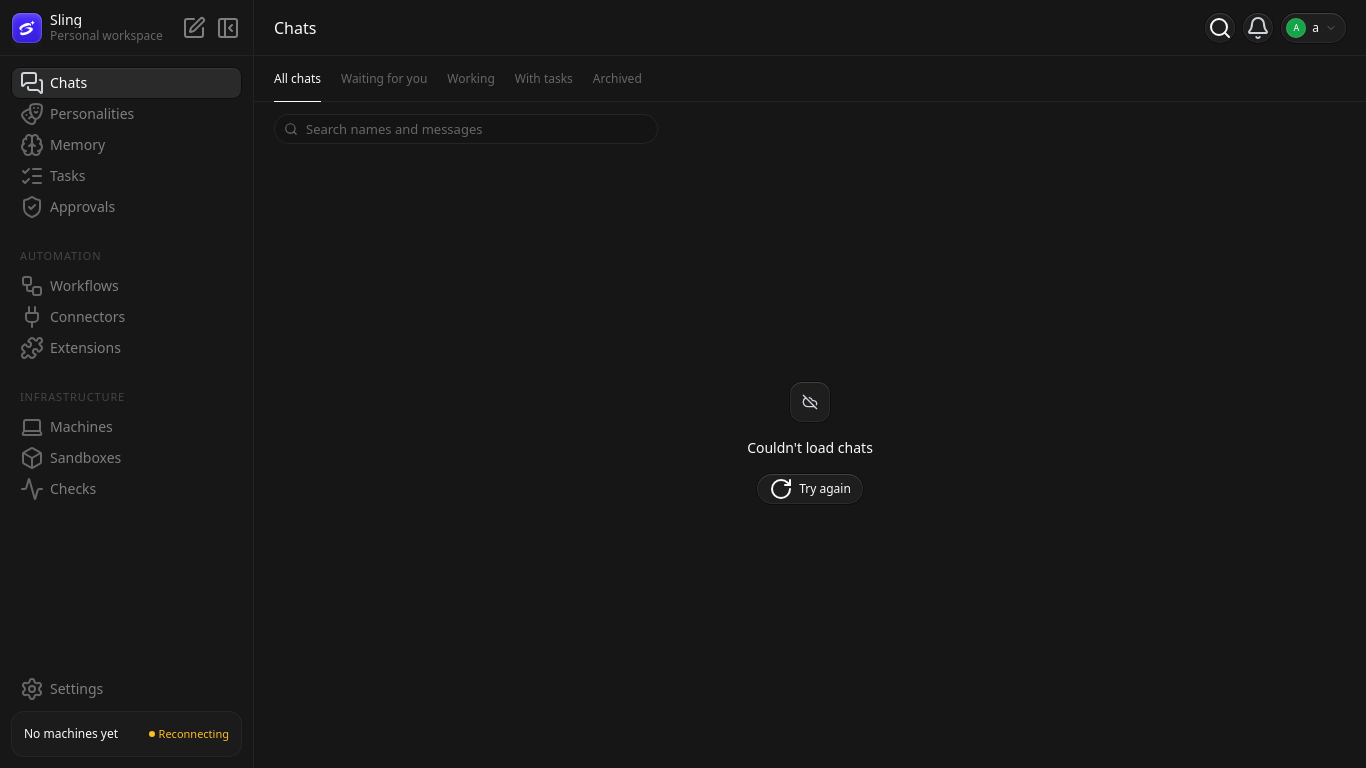
Test: chats › says the list didn't load, rather than that there are no chats, and tries again
Expected: the text "Couldn't load chats" is shown, [747,438,873,458]
What coordinates should you click on to do the following:
click the button "Try again"
I would click on:
 (810, 489)
Its box is [757,474,863,504].
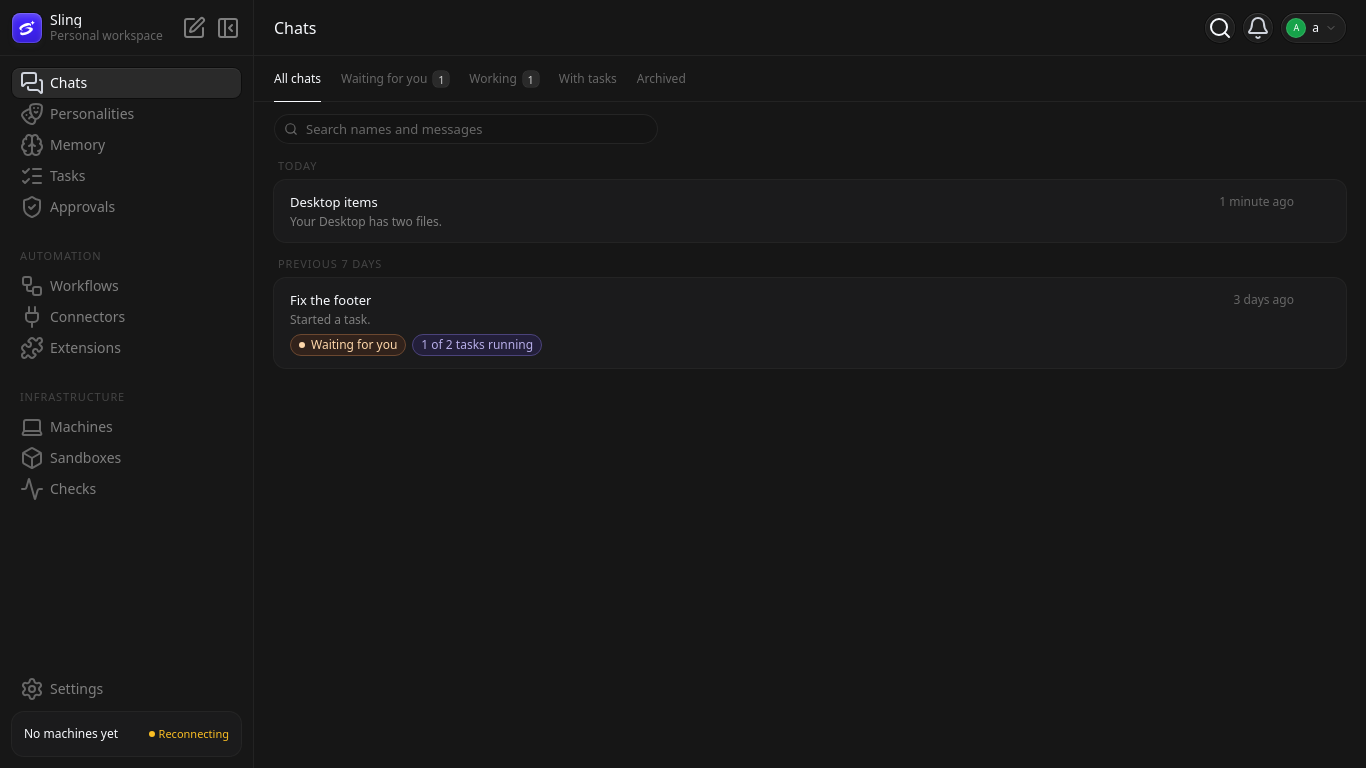
Expected: the link "Fix the footer" is shown, [290,290,371,310]
Expected: the text "Couldn't load chats" is gone
